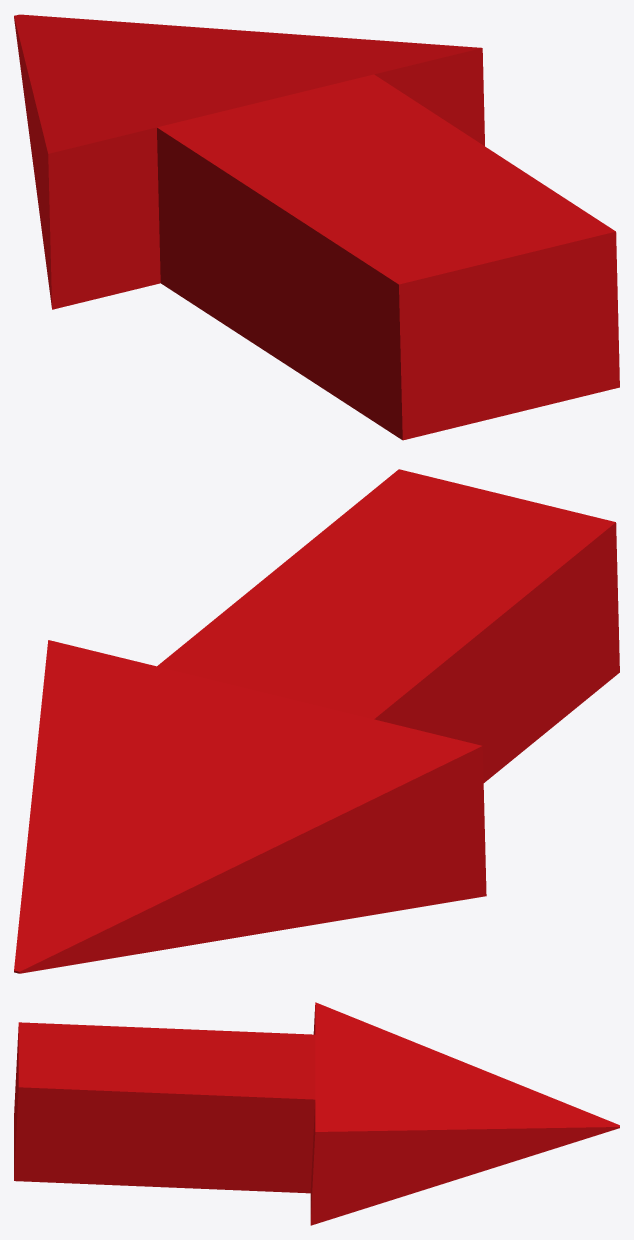
The model's file is Arrow.fbx.
3 views of the same model, one above another, from view 1: azimuth 30°, elevation 25°; view 2: azimuth 150°, elevation 25°; view 3: azimuth 270°, elevation 25° (orthographic). The views are drawn at different scales.
Visible parts, largest first — view 1: Cube; view 2: Cube; view 3: Cube.
Part boxes in pixels (x1,y1,x2,y2): Cube: [14, 14, 619, 440]; Cube: [14, 469, 619, 973]; Cube: [14, 1002, 619, 1225].
Bounding box in the file's own units: 200 × 76.15 × 394.
